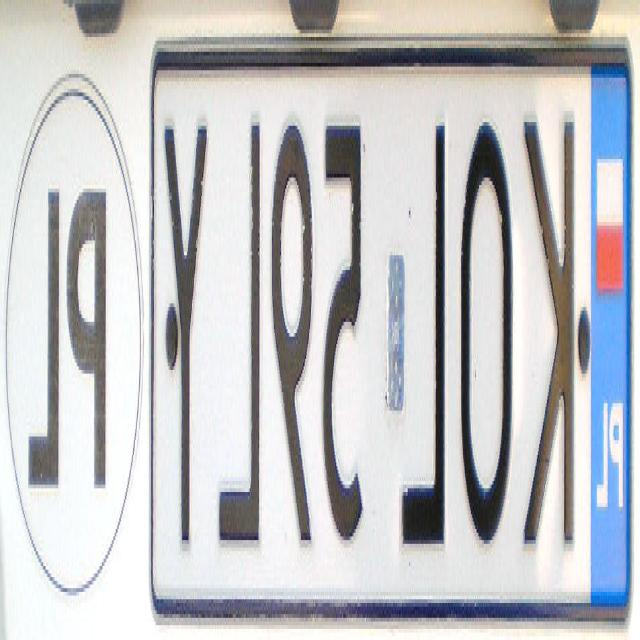pl_license_plate: (153, 56, 633, 600)
